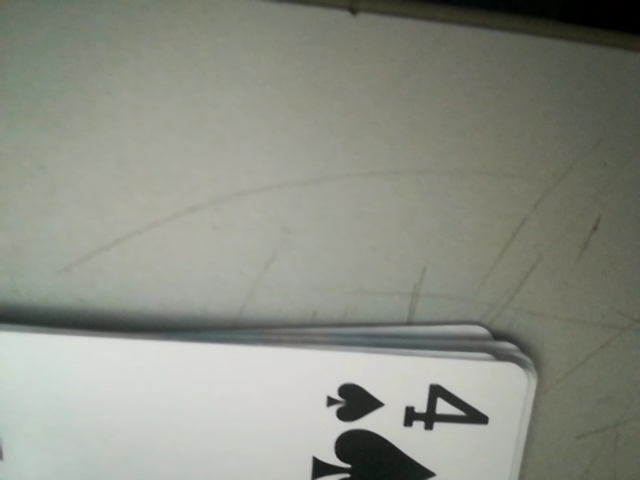ht 4: (318, 370, 497, 435)
